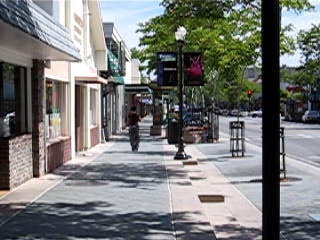person: (125, 107, 140, 154), (124, 107, 139, 154), (126, 107, 141, 154), (125, 106, 140, 153), (125, 108, 140, 155)
target_negative: (91, 174, 223, 224), (252, 102, 299, 168), (238, 104, 293, 157), (196, 192, 263, 233), (108, 203, 197, 220), (270, 50, 306, 66)
